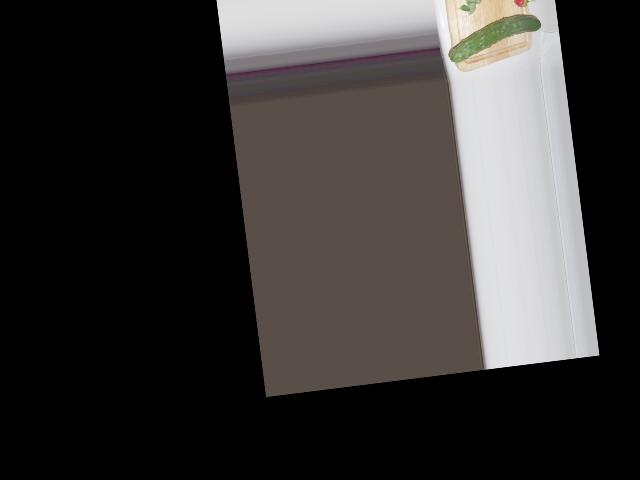cucumber: (445, 13, 543, 63)
